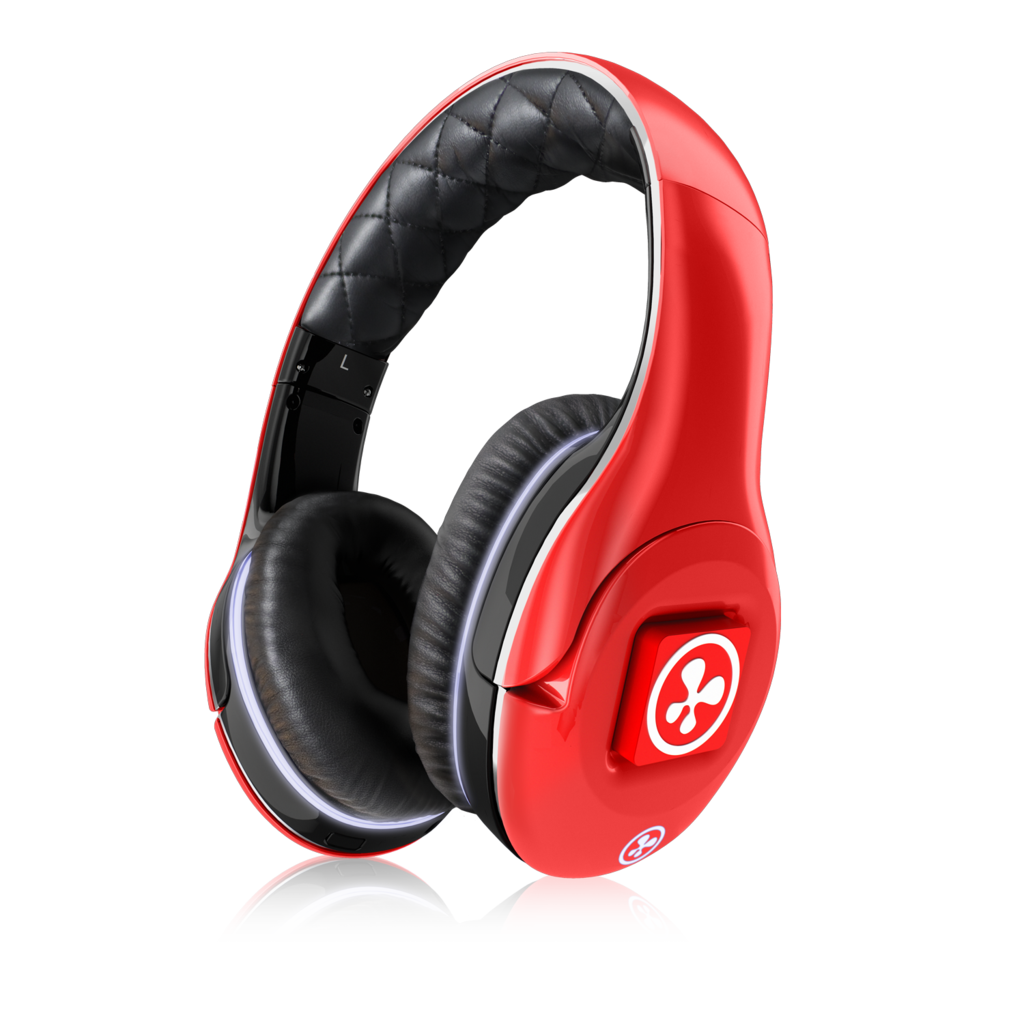headphone: (195, 50, 850, 880)
